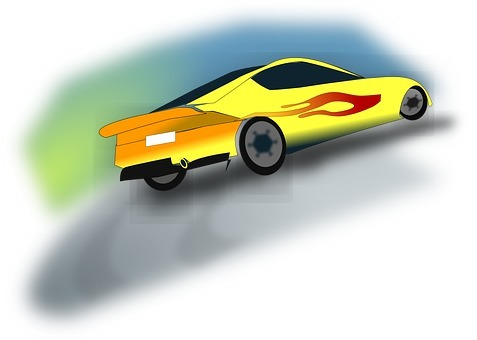car: (95, 53, 434, 194)
